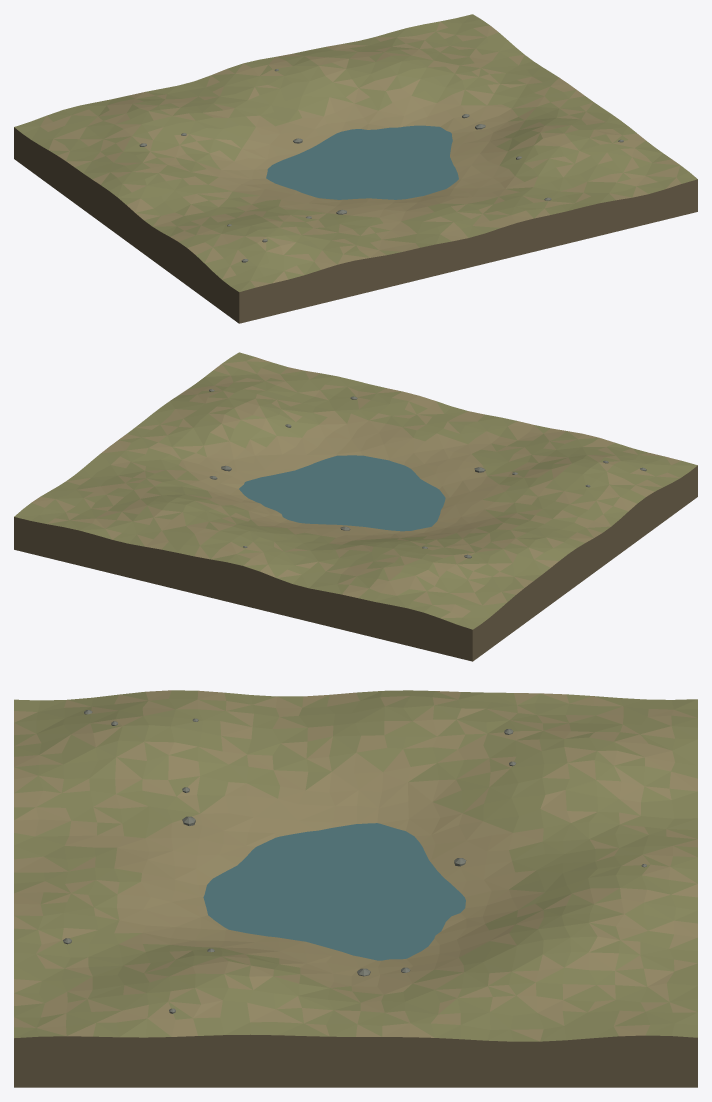
The picture shows the model from 3 angles, top to bottom: view 1: azimuth 30°, elevation 25°; view 2: azimuth 150°, elevation 25°; view 3: azimuth 270°, elevation 25°; orthographic projection. The views are drawn at different scales.
Visible parts, largest first — view 1: continuous_hummocky_glacial_till_closed_depression, shallow_partial_pond; view 2: continuous_hummocky_glacial_till_closed_depression, shallow_partial_pond; view 3: continuous_hummocky_glacial_till_closed_depression, shallow_partial_pond, irregular_embedded_till_stones.
Part boxes in pixels (bbox=[...]): continuous_hummocky_glacial_till_closed_depression: bbox=[14, 14, 697, 323]; shallow_partial_pond: bbox=[266, 125, 458, 199]; continuous_hummocky_glacial_till_closed_depression: bbox=[14, 352, 697, 661]; shallow_partial_pond: bbox=[239, 455, 445, 531]; continuous_hummocky_glacial_till_closed_depression: bbox=[14, 690, 697, 1087]; shallow_partial_pond: bbox=[203, 823, 465, 960]; irregular_embedded_till_stones: bbox=[63, 710, 646, 1013].
Size of the model in its own units: 80 by 7.88 by 68.
